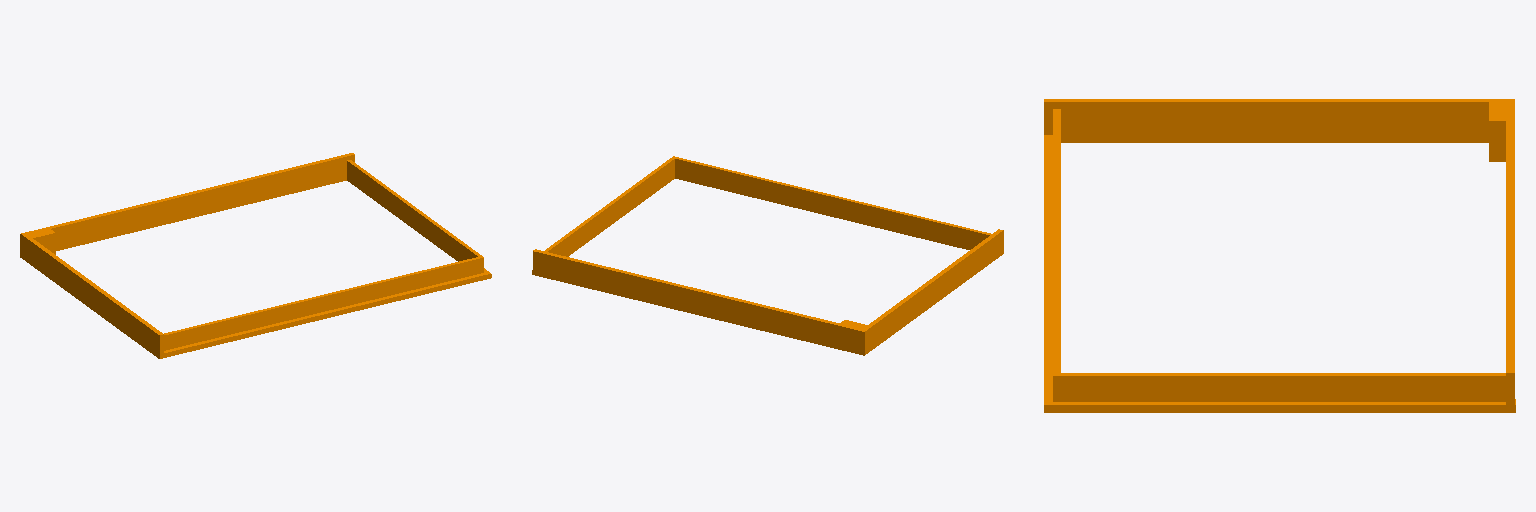
URDF robot description (simulation_enviroment):
<?xml version="1.0" encoding="utf-8"?>
<!-- This URDF was automatically created by SolidWorks to URDF Exporter! Originally created by [author] ([email redacted]) 
     Commit Version: 1.6.0-4-g7f85cfe  Build Version: 1.6.7995.38578
     For more information, please see http://wiki.ros.org/sw_urdf_exporter -->
<robot
  name="simulation_enviroment">
  <link
    name="base_link">
    <inertial>
      <origin
        xyz="-0.22092 0.21488 -0.20417"
        rpy="0 0 0" />
      <mass
        value="1203.3" />
      <inertia
        ixx="897.71"
        ixy="-21.988"
        ixz="-1.7899E-14"
        iyy="2691.4"
        iyz="3.0082E-14"
        izz="3555.4" />
    </inertial>
    <visual>
      <origin
        xyz="0 0 0"
        rpy="0 0 0" />
      <geometry>
        <mesh
          filename="package://vkistbot/meshes/simulation_enviroment.STL" />
      </geometry>
      <material
        name="">
        <color
          rgba="1 0.6 0 1" />
      </material>
    </visual>
    <collision>
      <origin
        xyz="0 0 0"
        rpy="0 0 0" />
      <geometry>
        <mesh
          filename="package://vkistbot/meshes/simulation_enviroment.STL" />
      </geometry>
    </collision>
  </link>
</robot>

--- Facts derived from the render (not from the file) ---
Views: 3 orthographic renders of the robot side by side, from view 1: azimuth 30°, elevation 25°; view 2: azimuth 150°, elevation 25°; view 3: azimuth 270°, elevation 25°.
Robot: simulation_enviroment — 1 links, 0 joints (none); root link base_link; default pose: all joints at 0.
Links seen in each view (by area): view 1: base_link; view 2: base_link; view 3: base_link.
Link boxes in pixels (left/top/right/bottom): base_link: left=20, top=153, right=491, bottom=358; base_link: left=532, top=156, right=1003, bottom=355; base_link: left=1044, top=99, right=1515, bottom=412.
Bounding box of the posed robot: 7.28 × 5.28 × 0.5 m (x, y, z).
1 mesh visuals loaded from 1 distinct referenced files (1 binary STL).
